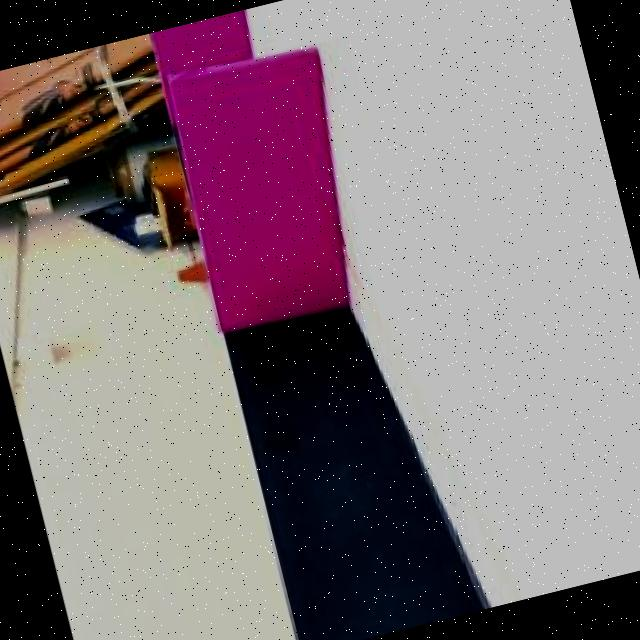xparking: (166, 52, 355, 330)
